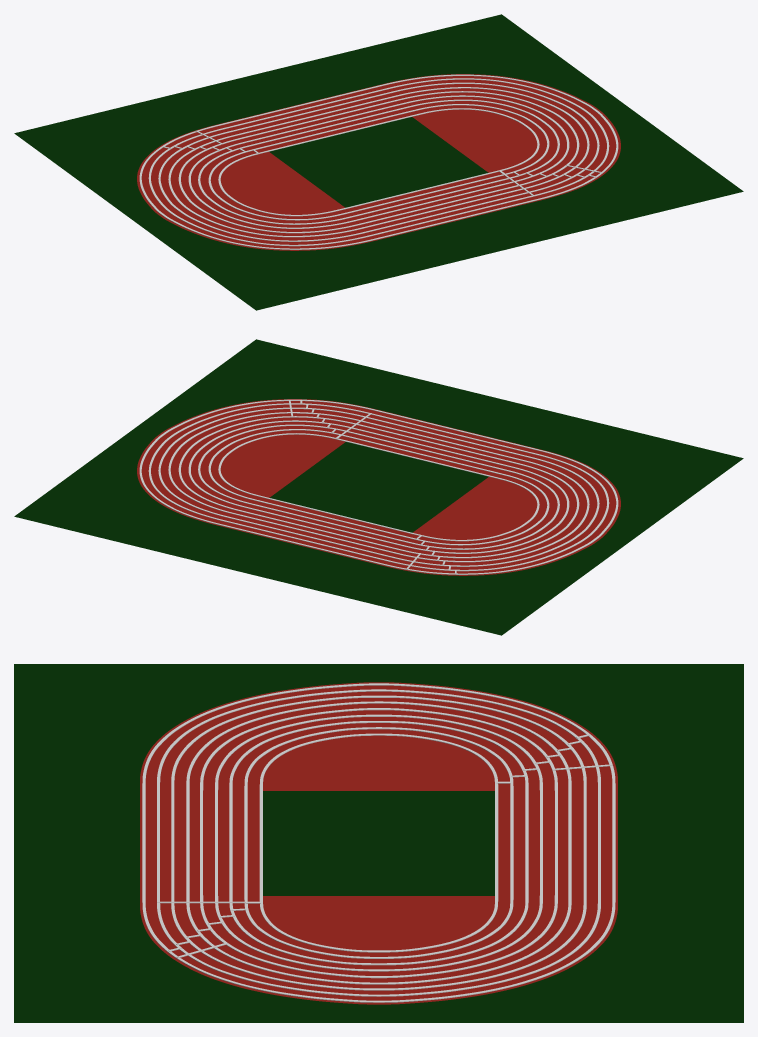
The model's file is pista_atletismo.fbx.
The picture shows the model from 3 angles, top to bottom: view 1: azimuth 30°, elevation 25°; view 2: azimuth 150°, elevation 25°; view 3: azimuth 270°, elevation 25°; orthographic projection. The views are drawn at different scales.
Visible parts, largest first — view 1: areaFora, pista, linhas; view 2: areaFora, pista, linhas; view 3: areaFora, pista, linhas.
Part boxes in pixels (<box>): areaFora: <box>14,14,743,310</box>; pista: <box>137,74,620,250</box>; linhas: <box>139,74,618,249</box>; areaFora: <box>14,339,743,635</box>; pista: <box>137,399,620,575</box>; linhas: <box>139,399,618,574</box>; areaFora: <box>14,664,743,1022</box>; pista: <box>140,682,617,1004</box>; linhas: <box>142,683,615,1002</box>.
Size of the model in its own units: 35.05 by 0.051 by 30.14.
